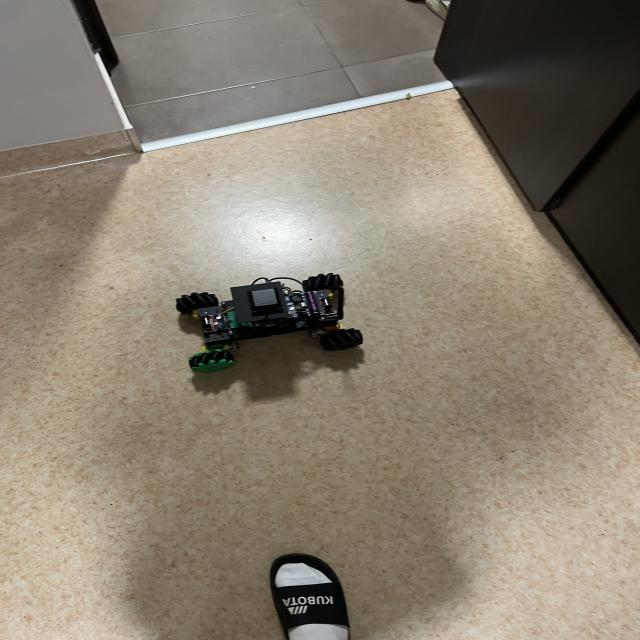robot: (176, 273, 363, 373)
